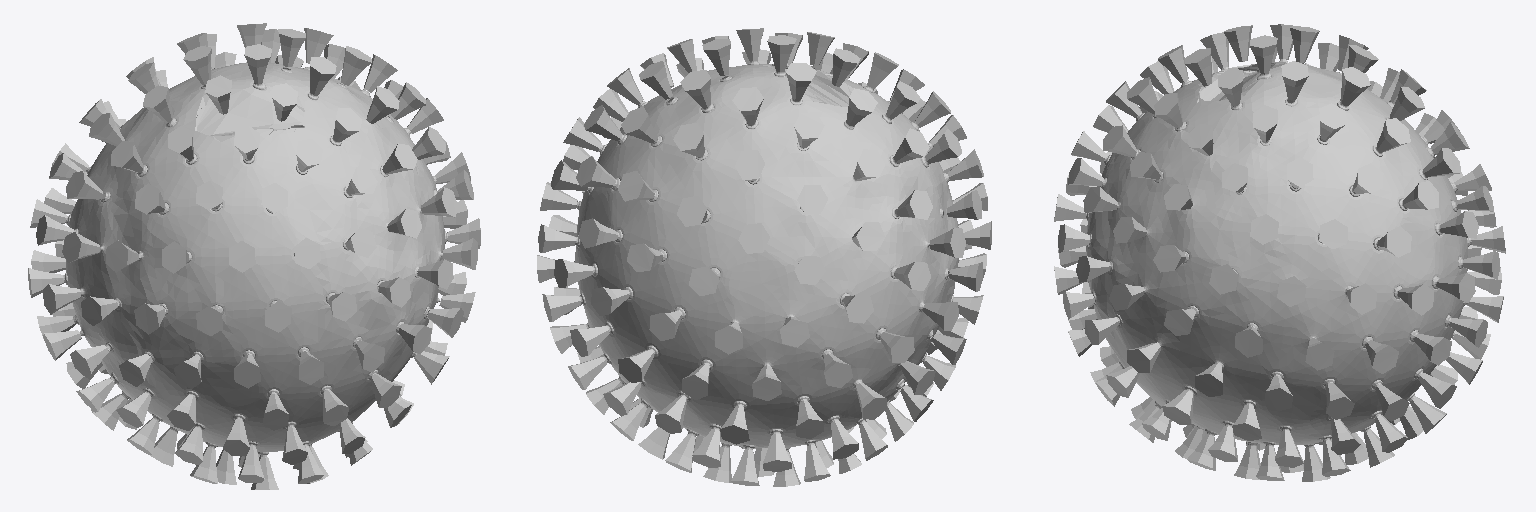
Rendered from COVID2.obj.
3 renders of one model, left to right at view 1: azimuth 30°, elevation 25°; view 2: azimuth 150°, elevation 25°; view 3: azimuth 270°, elevation 25°, orthographic.
Visible parts, largest first — view 1: Icosphere, Icosphere.001; view 2: Icosphere, Icosphere.001; view 3: Icosphere, Icosphere.001.
Boxes of the visible parts, x1,y1,x2,y2 form: Icosphere: [63, 62, 447, 456]; Icosphere.001: [28, 23, 480, 489]; Icosphere: [574, 61, 958, 451]; Icosphere.001: [537, 28, 991, 486]; Icosphere: [1086, 59, 1471, 447]; Icosphere.001: [1054, 24, 1505, 481].
Size of the model in its own units: 0.223 by 0.2318 by 0.2233.